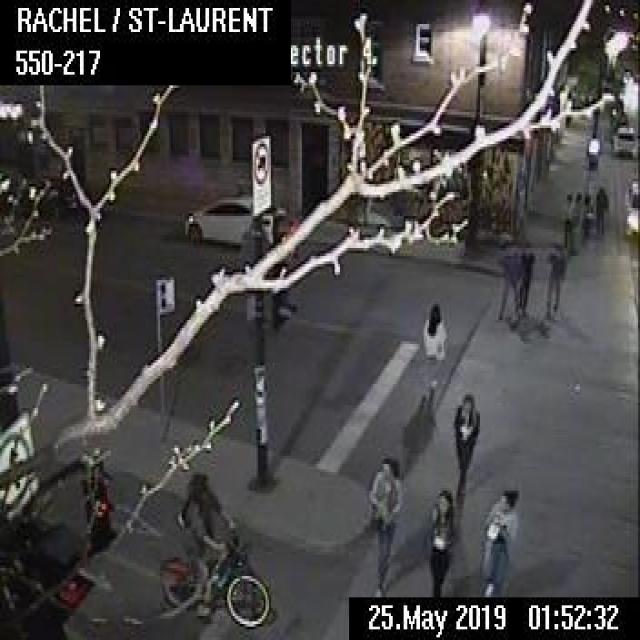cyclist: (152, 469, 272, 632)
pedestrian: (362, 453, 402, 595), (476, 485, 520, 595), (416, 299, 449, 410), (424, 488, 456, 595), (452, 390, 480, 510), (493, 238, 518, 320), (542, 239, 566, 320), (518, 236, 534, 312), (593, 184, 607, 237), (572, 187, 583, 246), (562, 190, 572, 250), (582, 187, 593, 236)
vehicle: (180, 190, 291, 246), (621, 175, 638, 240), (612, 123, 634, 160)
